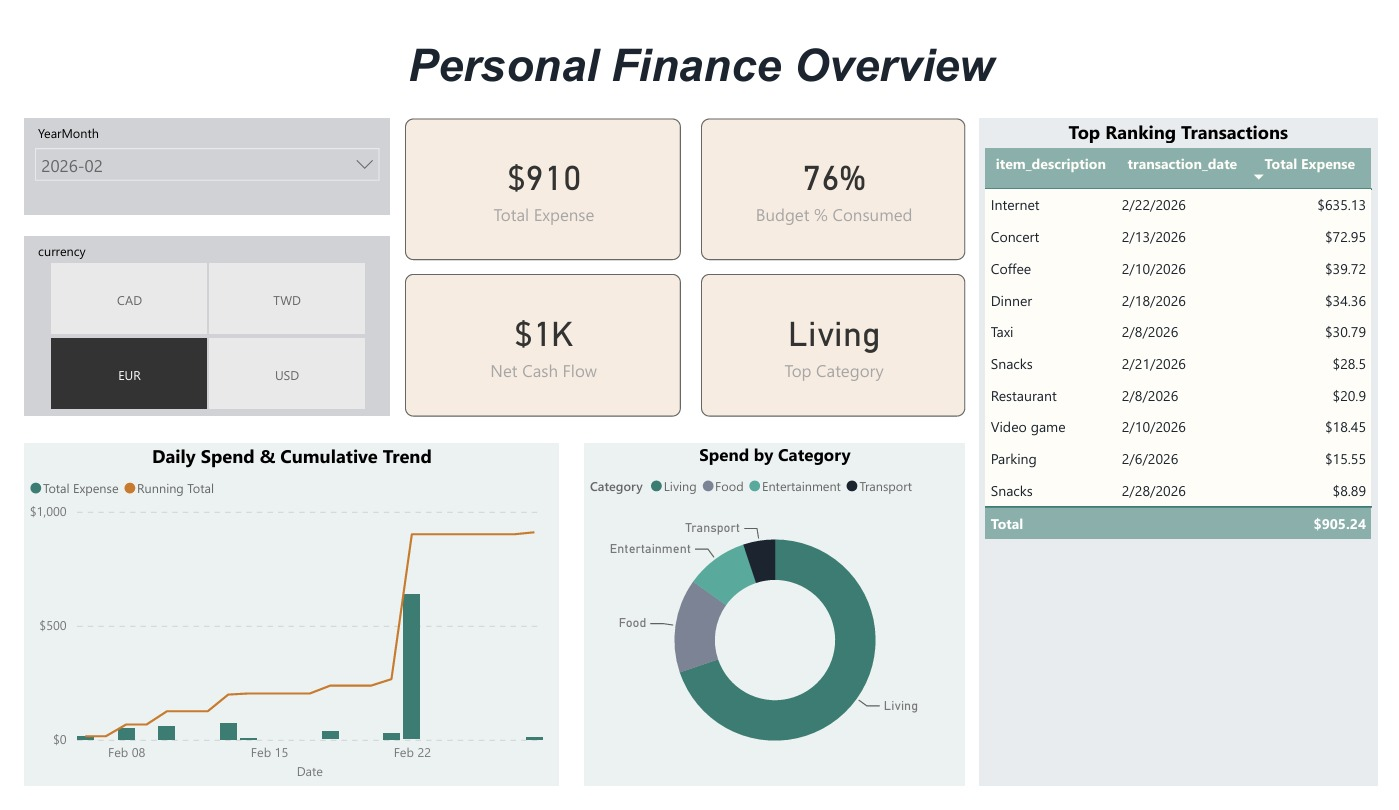

The dashboard page shown, as its layout file describes it:
{"tool":"powerbi","page":{"name":"Overview","canvas":[1280,720],"ordinal":0},"visuals":[{"type":"advanceCardE03760C5AB684758B56AA29F9E6C257B","fields":{"mainMeasure":["daily_expenses.Total Expense"]},"box":[360,88.6,261.4,134.3],"z":0},{"type":"advanceCardE03760C5AB684758B56AA29F9E6C257B","fields":{"mainMeasure":["daily_expenses.Budget % Consumed"]},"box":[640,88.6,250,134.3],"z":1000},{"type":"advanceCardE03760C5AB684758B56AA29F9E6C257B","fields":{"mainMeasure":["daily_expenses.Net Cash Flow"]},"box":[360,235.7,261.4,135.7],"z":2000},{"type":"advanceCardE03760C5AB684758B56AA29F9E6C257B","fields":{"mainMeasure":["daily_expenses.Top Category"]},"box":[640,235.7,250,135.7],"z":3000},{"type":"slicer","fields":{"Values":["daily_expenses.currency"]},"box":[0,201.4,345.7,170],"z":4000},{"type":"slicer","fields":{"Values":["DateTable.YearMonth"]},"box":[0,88.6,345.7,91.4],"z":5000},{"type":"lineClusteredColumnComboChart","title":"Daily Spend & Cumulative Trend","fields":{"Category":["DateTable.Date"],"Y":["daily_expenses.Total Expense"],"Y2":["daily_expenses.Running Total"]},"box":[0,395.7,505.7,324.3],"z":6000},{"type":"donutChart","title":"Spend by Category","fields":{"Category":["daily_expenses.Category"],"Y":["daily_expenses.Total Expense"]},"box":[530,395.7,360,324.3],"z":7000},{"type":"tableEx","title":"Top Ranking Transactions","fields":{"Values":["daily_expenses.item_description","daily_expenses.transaction_date","daily_expenses.Total Expense"]},"box":[902.9,88.6,377.1,631.4],"z":8000},{"type":"textbox","box":[0,10,1280,68.6],"z":9000}]}

Visuals, with their boxes in screenshot pixels (x1, y1, x2, y2), scaled from the page's 1280x720 canvas onto the 1399x810 screenshot:
advanceCardE03760C5AB684758B56AA29F9E6C257B - daily_expenses.Total Expense: [x1=393, y1=100, x2=679, y2=251]
advanceCardE03760C5AB684758B56AA29F9E6C257B - daily_expenses.Budget % Consumed: [x1=700, y1=100, x2=973, y2=251]
advanceCardE03760C5AB684758B56AA29F9E6C257B - daily_expenses.Net Cash Flow: [x1=393, y1=265, x2=679, y2=418]
advanceCardE03760C5AB684758B56AA29F9E6C257B - daily_expenses.Top Category: [x1=700, y1=265, x2=973, y2=418]
slicer - daily_expenses.currency: [x1=0, y1=227, x2=378, y2=418]
slicer - DateTable.YearMonth: [x1=0, y1=100, x2=378, y2=202]
"Daily Spend & Cumulative Trend" lineClusteredColumnComboChart: [x1=0, y1=445, x2=553, y2=809]
"Spend by Category" donutChart: [x1=579, y1=445, x2=973, y2=809]
"Top Ranking Transactions" tableEx: [x1=987, y1=100, x2=1398, y2=809]
textbox: [x1=0, y1=11, x2=1398, y2=88]
